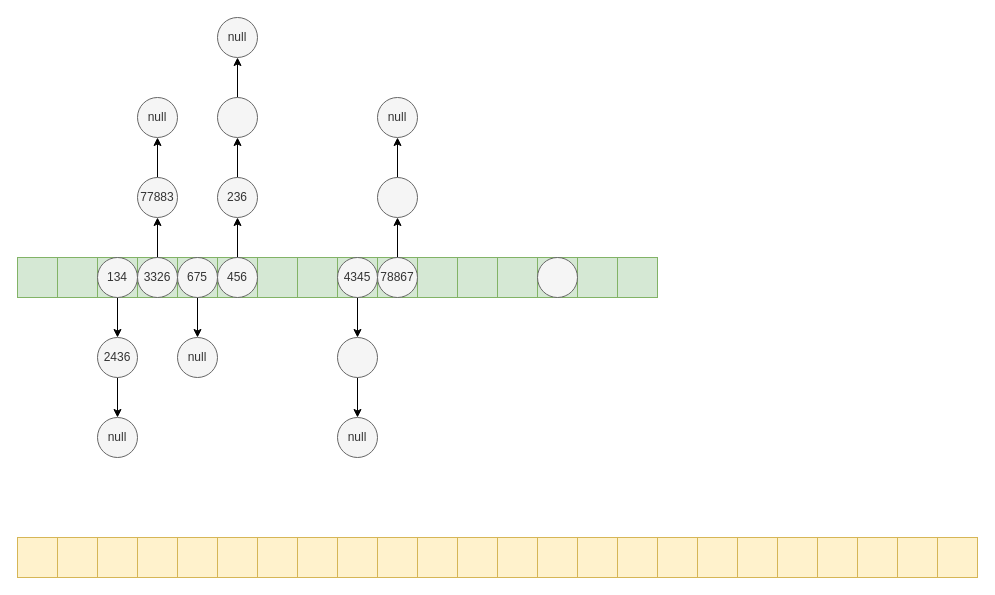
The diagram is 995 pixels wide and 595 high, and some of its shapes have lost their labels. The shapes that lost their labels are listed below. From the top down, each one's centre as x and y in pixels, then its label:
At pixel 237 117: "c34".
At pixel 397 197: "n7u7".
At pixel 557 277: "12ec12".
At pixel 357 357: "vt3443".
